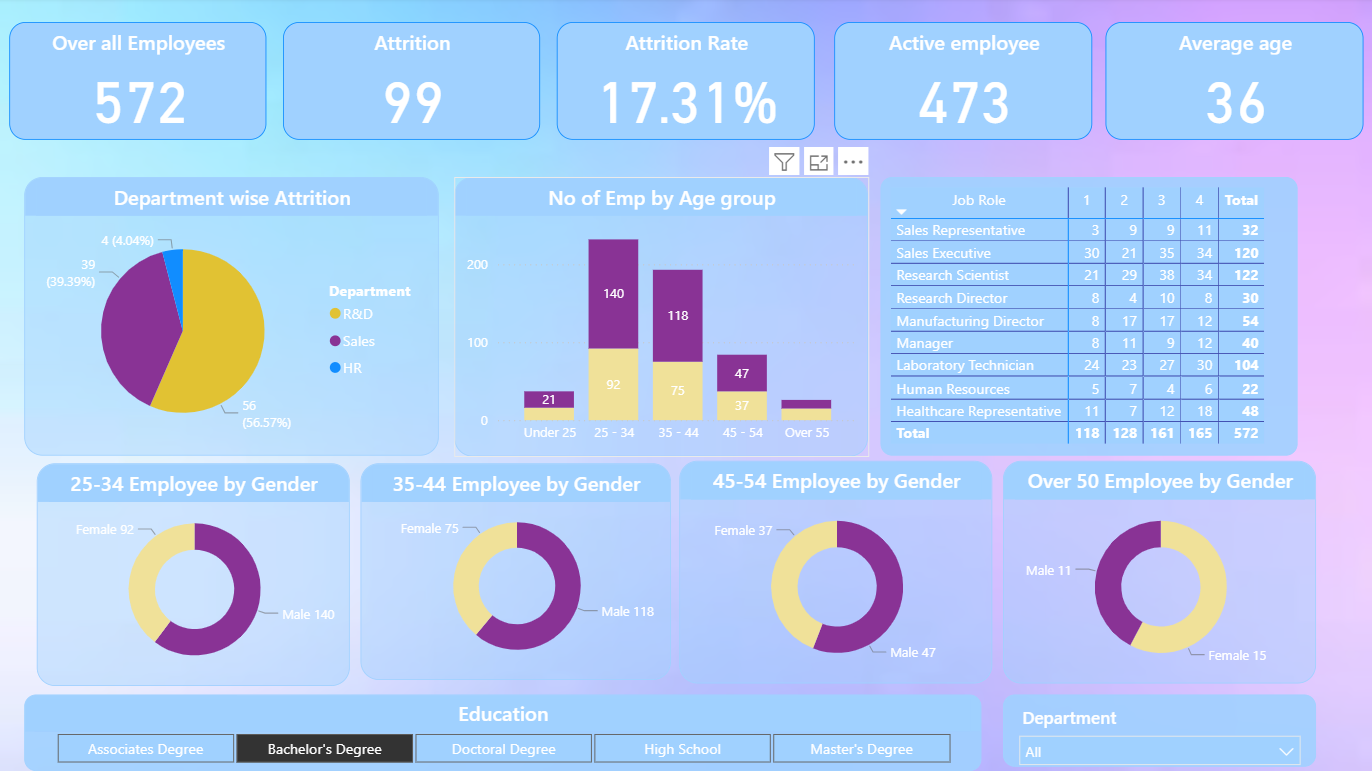

This screenshot's page, from the dashboard's own definition file:
{"tool":"powerbi","page":{"name":"Page 1","canvas":[1280,720],"ordinal":0},"visuals":[{"type":"card","title":"Over all Employees","fields":{"Values":["Sum(HR data.Employee Count)"]},"box":[10.7,23.8,239.2,109.5],"z":0},{"type":"card","title":"Attrition","fields":{"Values":["Sum(HR data.Attrition Count)"]},"box":[265.4,23.8,239.2,109.5],"z":1000},{"type":"card","title":"Attrition Rate","fields":{"Values":["HR data.Attrition rate"]},"box":[520.1,23.8,240.4,109.5],"z":2000},{"type":"card","title":"Active employee","fields":{"Values":["HR data.Active count"]},"box":[778.3,23.8,240.4,109.5],"z":3000},{"type":"card","title":"Average age","fields":{"Values":["Avg(HR data.Age)"]},"box":[1030.6,23.8,240.4,109.5],"z":4000},{"type":"pieChart","title":"Department wise Attrition","fields":{"Category":["HR data.Department"],"Y":["Sum(HR data.Attrition Count)"]},"box":[25,167.8,385.6,259.4],"z":5000},{"type":"columnChart","title":"No of  Emp by Age group","fields":{"Category":["HR data.CF_age band"],"Y":["Sum(HR data.Employee Count)"],"Series":["HR data.Gender"]},"box":[425,167.5,385,260],"z":6000},{"type":"slicer","title":"Education","fields":{"Values":["HR data.Education"]},"box":[25,648.8,890,71.2],"z":7000},{"type":"pivotTable","fields":{"Rows":["HR data.Job Role"],"Columns":["HR data.Job Satisfaction"],"Values":["Sum(HR data.Employee Count)"]},"box":[821.2,167.8,388,259.4],"z":8000},{"type":"donutChart","title":"35-44 Employee by Gender","fields":{"Category":["HR data.Gender"],"Y":["Sum(HR data.Employee Count)"]},"box":[337.5,433.8,288.8,201.2],"z":9000},{"type":"donutChart","title":"45-54 Employee by Gender","fields":{"Category":["HR data.Gender"],"Y":["Sum(HR data.Employee Count)"]},"box":[633.8,431.2,291.2,207.5],"z":10000},{"type":"donutChart","title":"25-34 Employee by Gender","fields":{"Category":["HR data.Gender"],"Y":["Sum(HR data.Employee Count)"]},"box":[36.2,433.8,291.2,207.5],"z":11000},{"type":"donutChart","title":"Over 50 Employee by Gender","fields":{"Category":["HR data.Gender"],"Y":["Sum(HR data.Employee Count)"]},"box":[935,431.2,291.2,207.5],"z":12000},{"type":"slicer","fields":{"Values":["HR data.Department"]},"box":[935,648.8,291.2,67.5],"z":13000}]}

Visuals, with their boxes in screenshot pixels (x1, y1, x2, y2), scaled from the page's 1280x720 canvas onto the 1372x771 screenshot:
"Over all Employees" card: (11, 25, 268, 143)
"Attrition" card: (284, 25, 541, 143)
"Attrition Rate" card: (557, 25, 815, 143)
"Active employee" card: (834, 25, 1092, 143)
"Average age" card: (1105, 25, 1362, 143)
"Department wise Attrition" pieChart: (27, 180, 440, 457)
"No of  Emp by Age group" columnChart: (456, 179, 868, 458)
"Education" slicer: (27, 695, 981, 770)
pivotTable - HR data.Job Role x HR data.Job Satisfaction: (880, 180, 1296, 457)
"35-44 Employee by Gender" donutChart: (362, 465, 671, 680)
"45-54 Employee by Gender" donutChart: (679, 462, 991, 684)
"25-34 Employee by Gender" donutChart: (39, 465, 351, 687)
"Over 50 Employee by Gender" donutChart: (1002, 462, 1314, 684)
slicer - HR data.Department: (1002, 695, 1314, 767)
